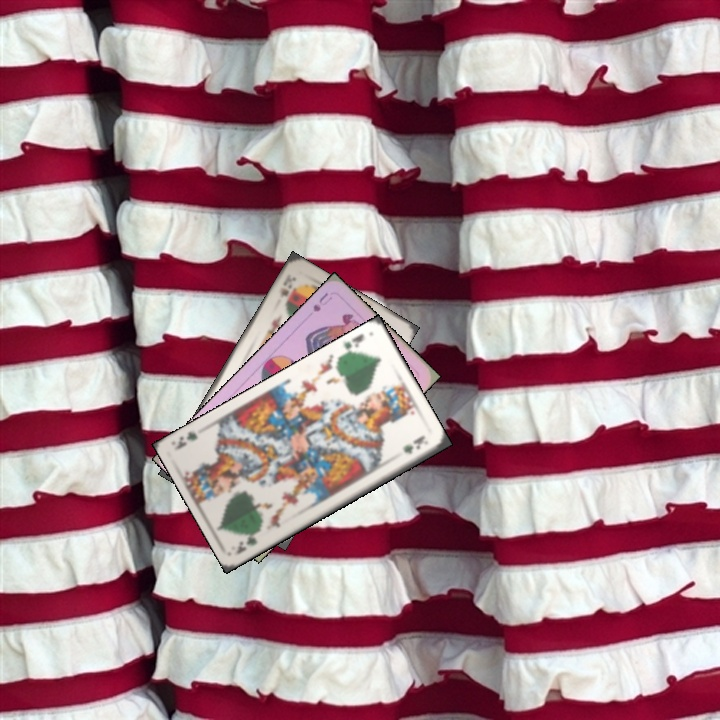GK: (232, 525, 264, 557), (336, 330, 367, 359)
SK: (276, 270, 299, 301)
SU: (309, 288, 335, 314)
